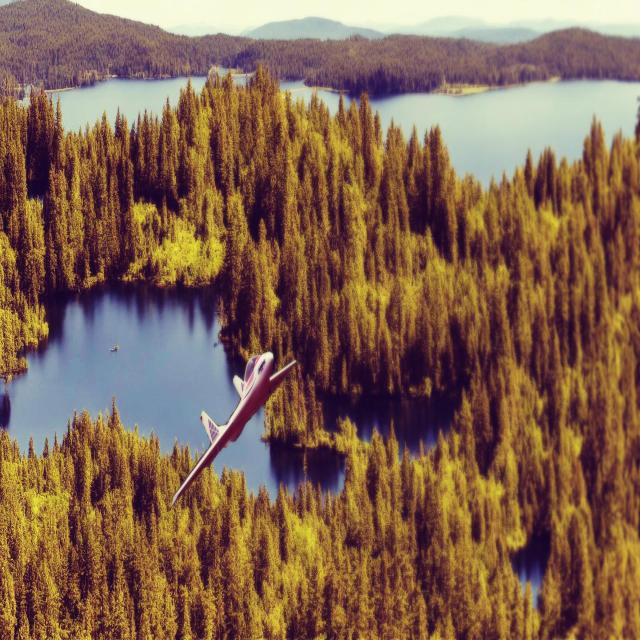airplane: (170, 349, 296, 506)
